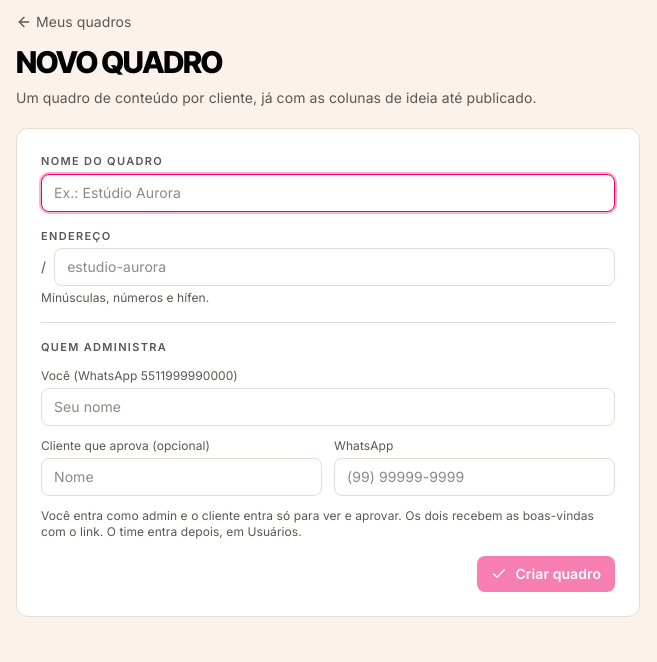
Test: NewBoardPage · cliente opcional › ignora o próprio WhatsApp repetido no campo do cliente
In the field with placeholder "Ex.: Estúdio Aurora": (328, 192) [41,174,615,212], type "Enkra"
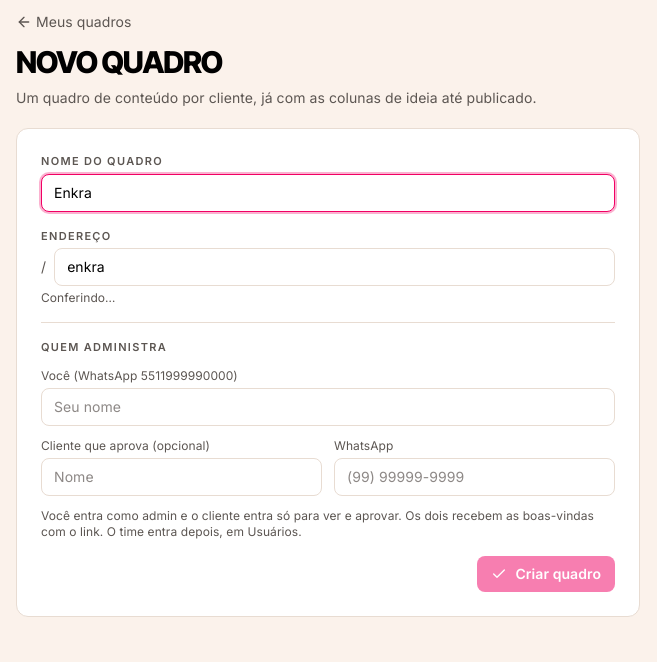
In the field with placeholder "Seu nome": (328, 406) [41,388,615,426], type "Ana"
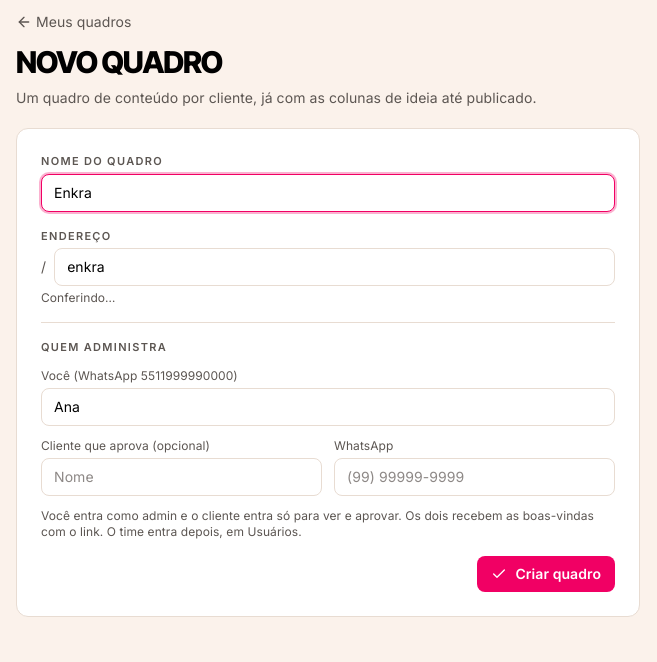
In the field with placeholder "(99) 99999-9999": (474, 476) [334,458,615,496], type "11999990000"
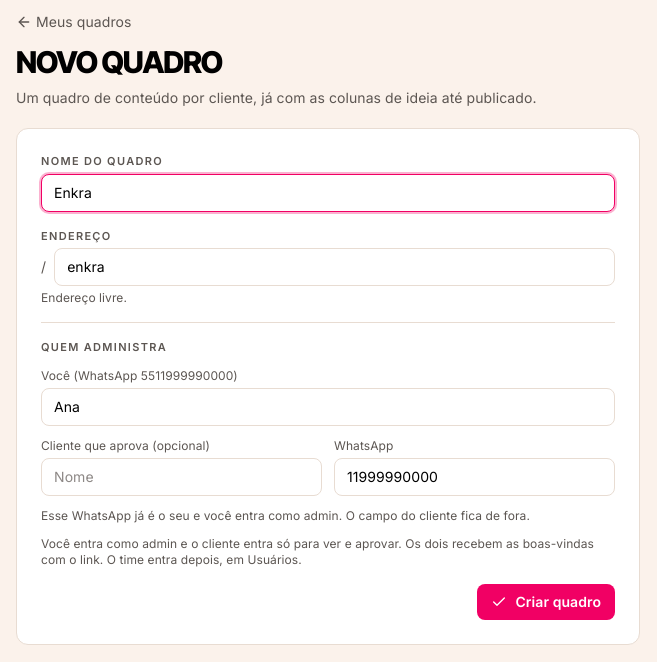
Check: the button "Criar quadro" is enabled, box [477,584,615,620]
Check: the text "Endereço livre." is shown, box [41,290,127,305]
Check: the text "já é o seu" is shown, box [41,508,530,522]
